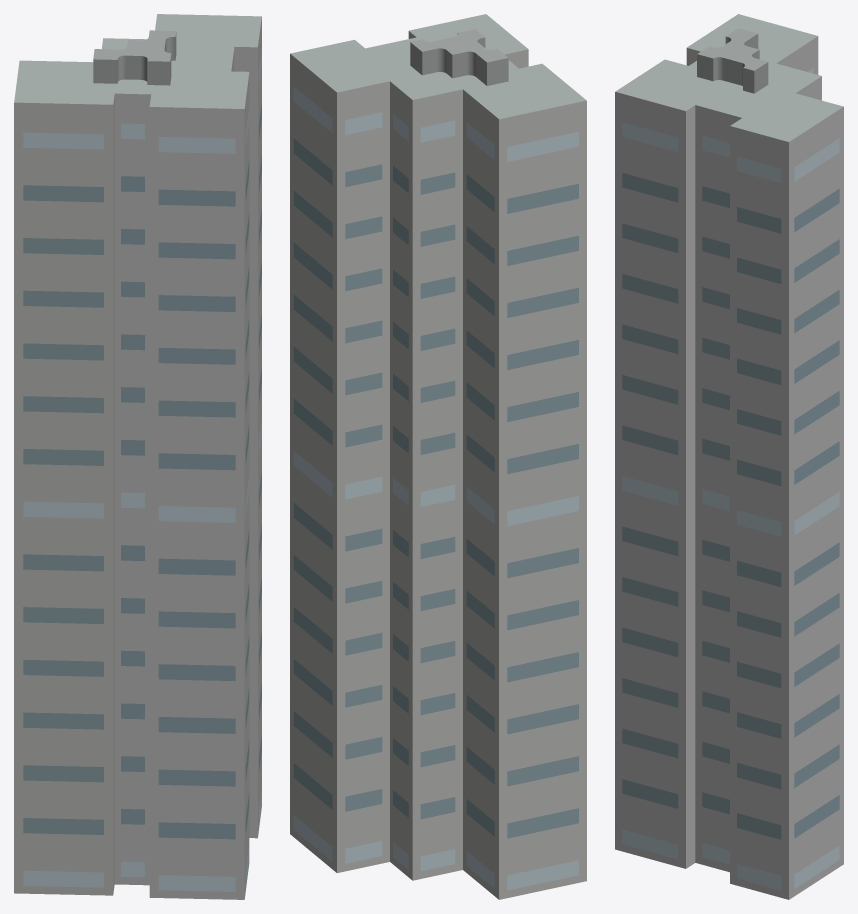
Rendered from fallback-lake-palace-106.glb.
3 renders of one model, left to right at view 1: azimuth 30°, elevation 25°; view 2: azimuth 150°, elevation 25°; view 3: azimuth 270°, elevation 25°, orthographic. The views are drawn at different scales.
Visible parts, largest first — view 1: fallback-lake-palace-106; view 2: fallback-lake-palace-106; view 3: fallback-lake-palace-106.
Part boxes in pixels (x1,y1,x2,y2): fallback-lake-palace-106: (14,14,261,899); fallback-lake-palace-106: (290,14,586,899); fallback-lake-palace-106: (615,14,843,899).
Bounding box in the file's own units: 28.88 × 82 × 21.77.
